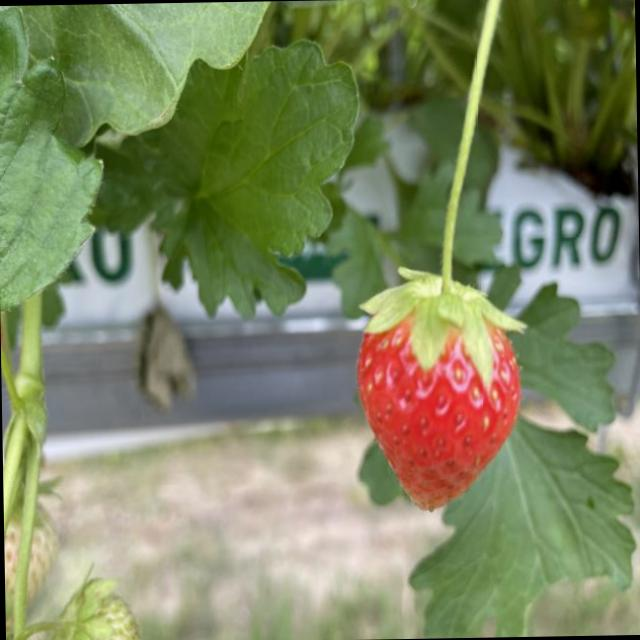stem: (362, 0, 520, 387)
strawberryR: (357, 323, 521, 510)
